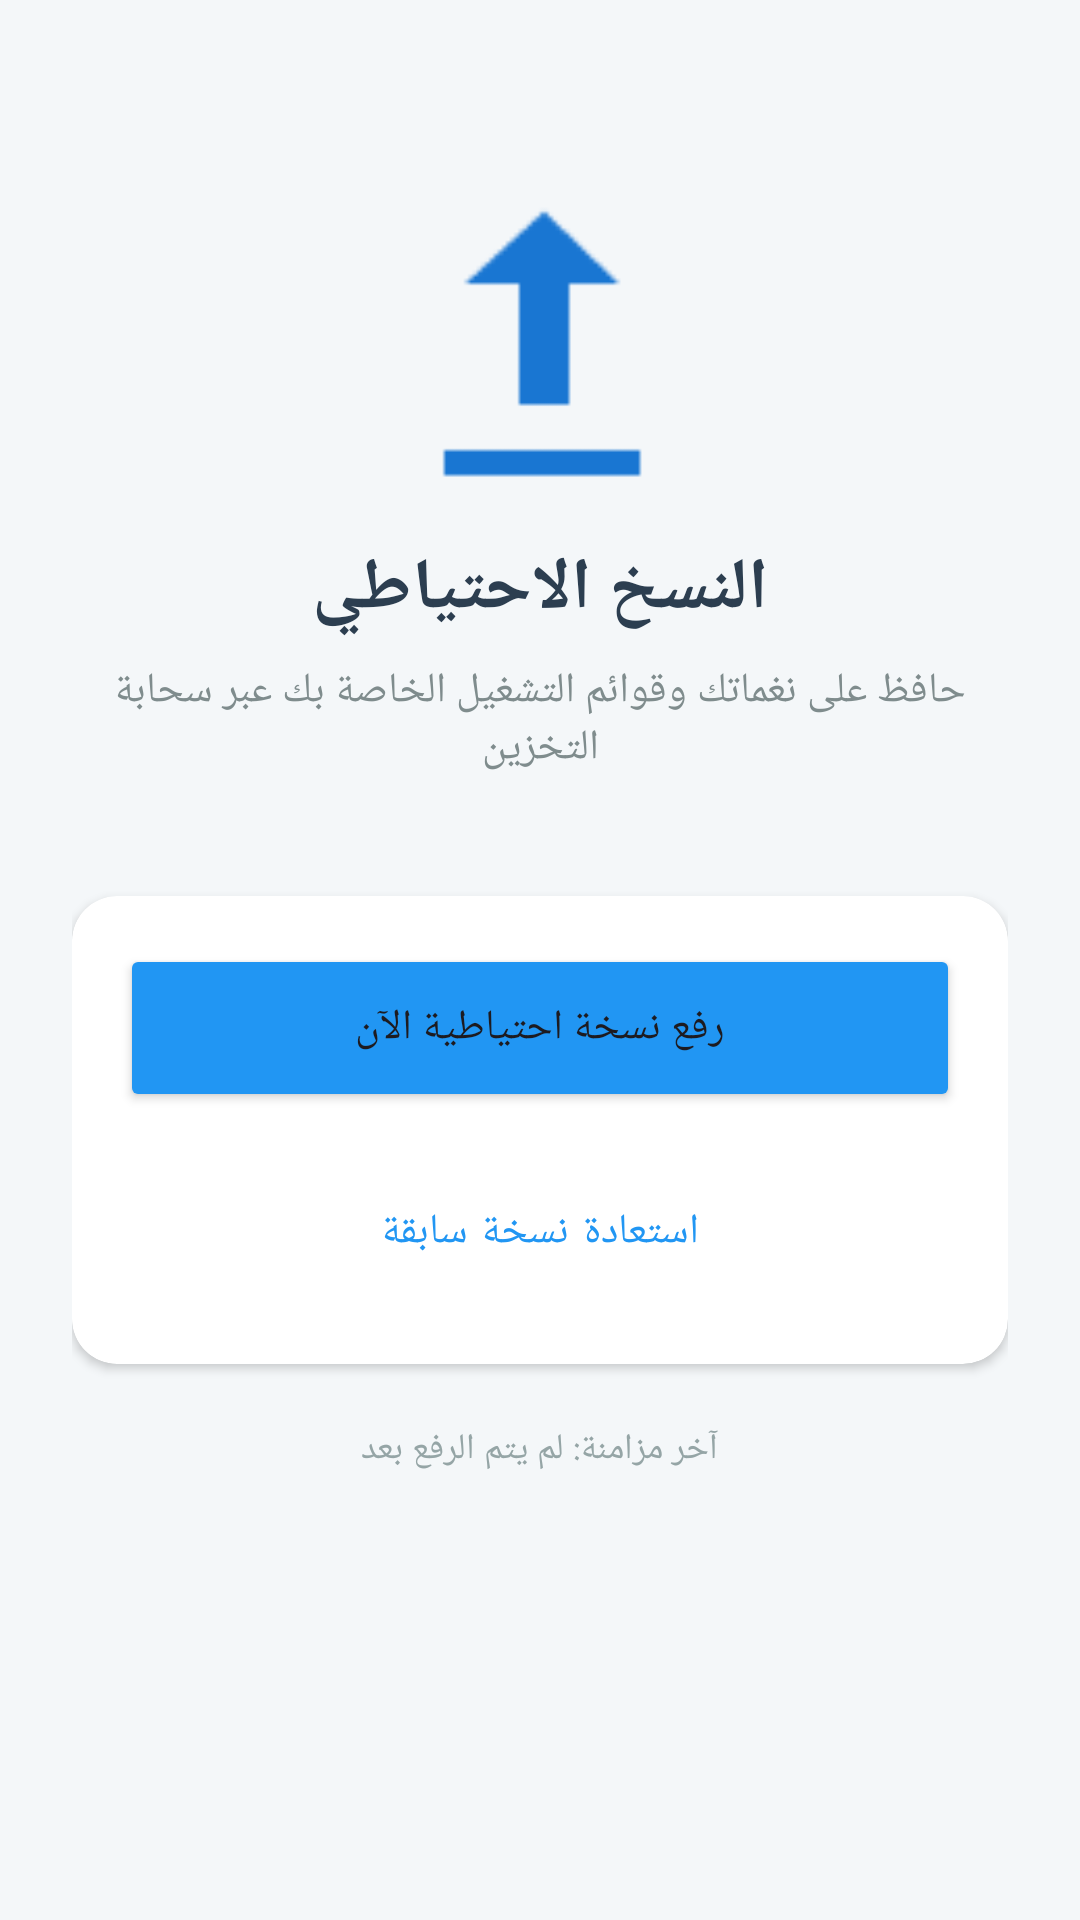

Locate icon controls on the screen. Image size 1080*1920, boxes as bbox=[x1, y1, x2, y2].
upload: bbox=[443, 211, 642, 477]
